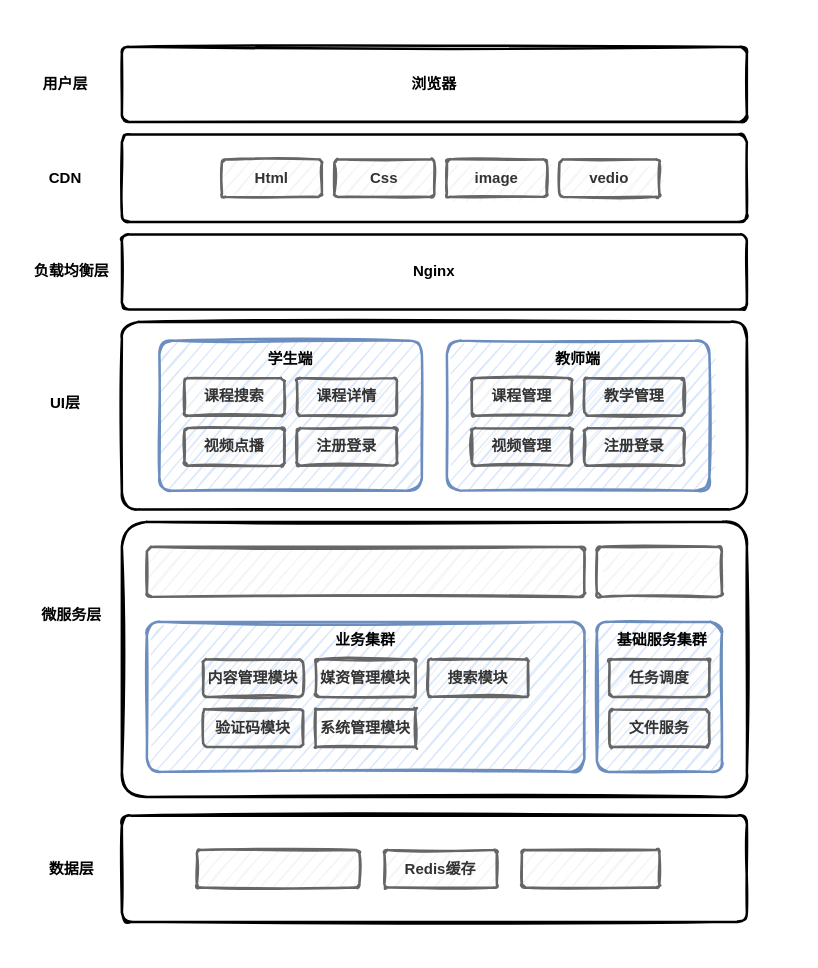
The diagram is 818 pixels wide and 968 high, and some of its shapes have lost their labels. Each missing label, with the box of its shape:
Elastisearch索引: (520, 848, 660, 888)
MySQL关系型数据库: (195, 848, 360, 888)
统一网关: (145, 545, 585, 598)
统一认证: (595, 545, 722, 598)
